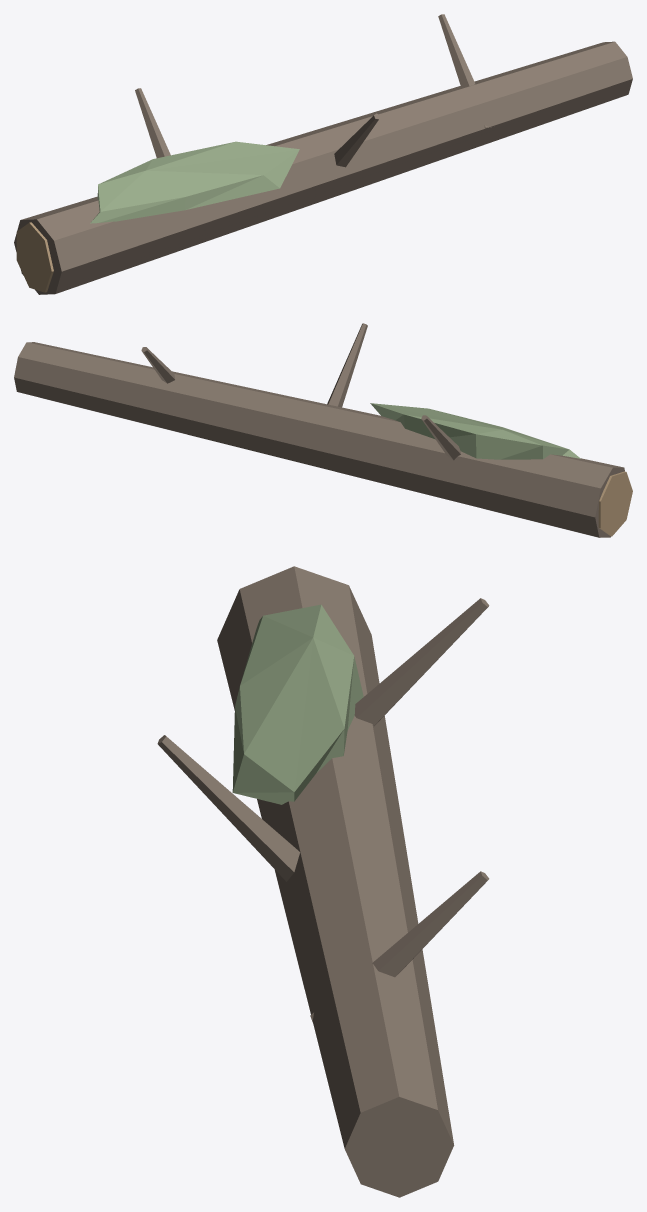
3 views of the same model, one above another, from view 1: azimuth 30°, elevation 25°; view 2: azimuth 150°, elevation 25°; view 3: azimuth 270°, elevation 25° (orthographic). The views are drawn at different scales.
Size of the model in its own units: 8.09 by 1.68 by 2.06.
